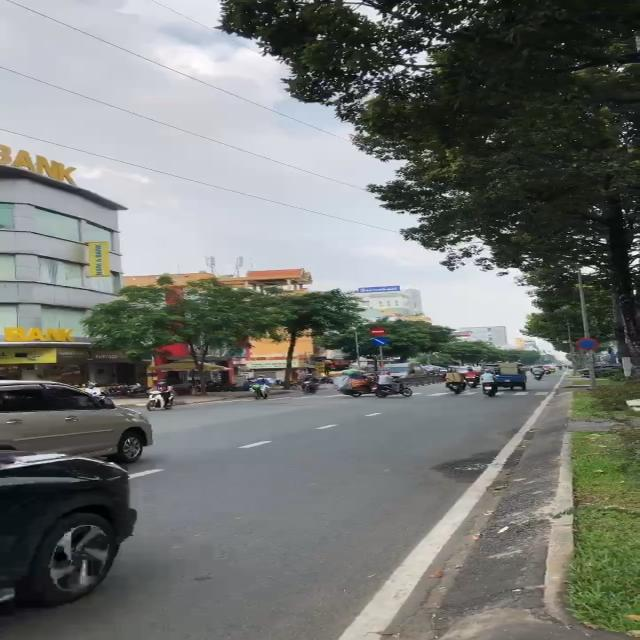Bien bao cam di nguoc chieu: (369, 326, 387, 336)
Bien bao huong phai di vong chuong ngai vat: (371, 336, 390, 347)
